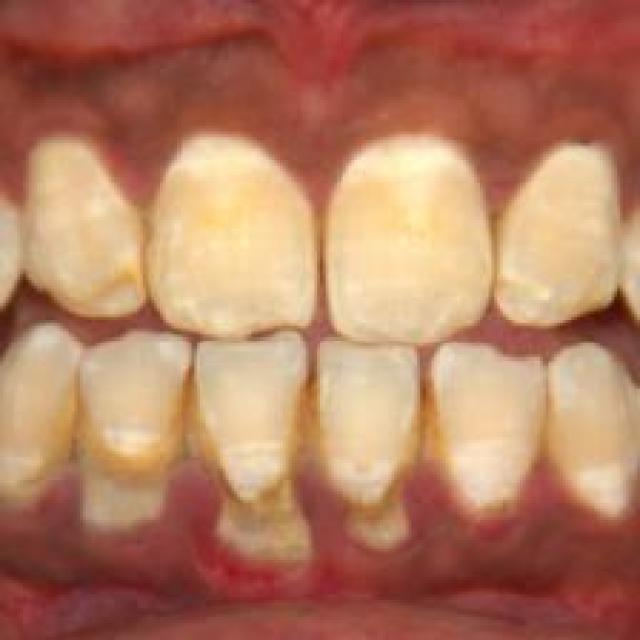karies: (109, 40, 260, 123), (6, 540, 137, 614), (434, 520, 572, 589), (377, 40, 483, 120), (83, 437, 166, 529), (220, 483, 309, 560), (334, 486, 417, 546), (40, 388, 91, 483), (283, 374, 328, 460), (166, 369, 211, 454), (406, 386, 443, 460)
